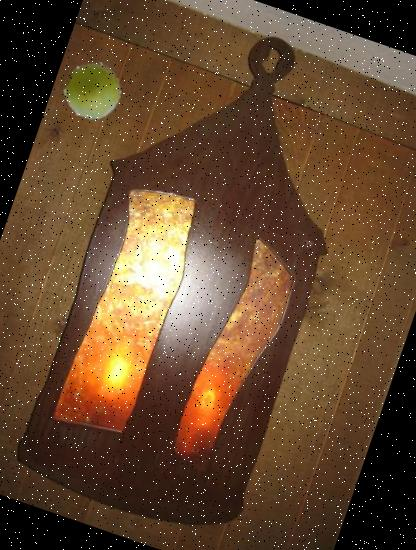Grape: (57, 54, 131, 128)
